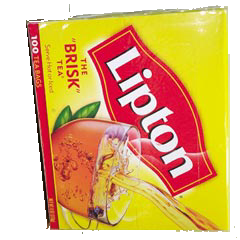grozi_83: (26, 6, 230, 231)
